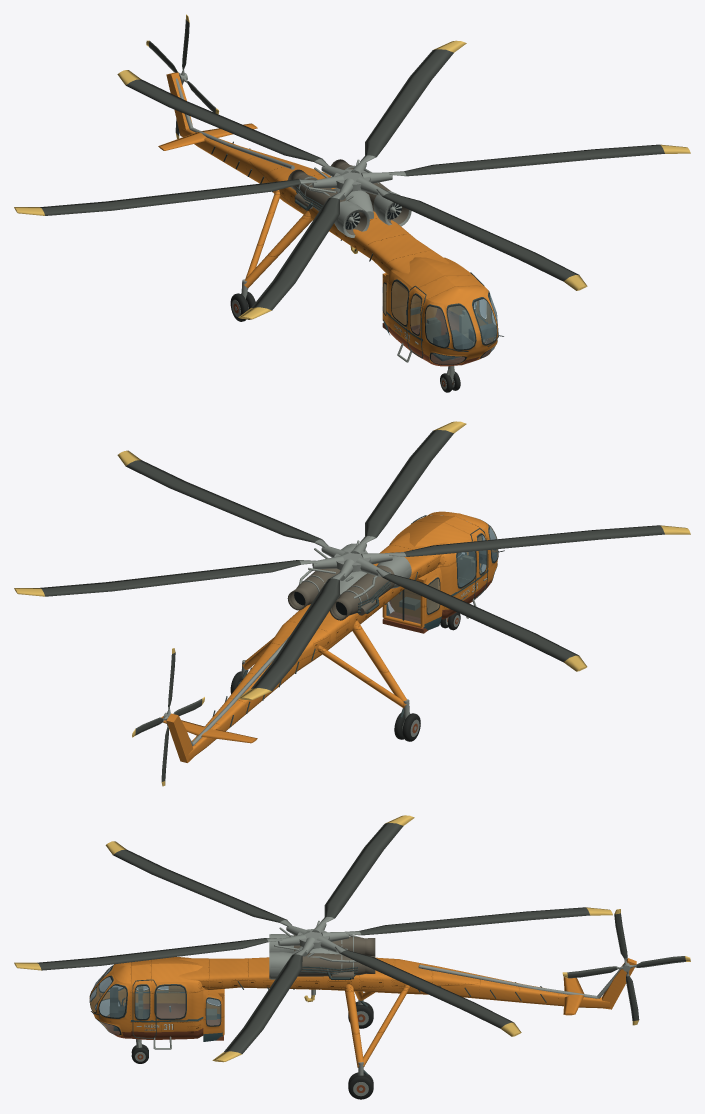
File: GIRIN.glb
3 views of the same model, one above another, from view 1: azimuth 30°, elevation 25°; view 2: azimuth 150°, elevation 25°; view 3: azimuth 270°, elevation 25° (orthographic). The views are drawn at different scales.
Parts seen in each view (by area): view 1: Airframe, MainRotor, TailRotor; view 2: Airframe, MainRotor, TailRotor; view 3: Airframe, MainRotor, TailRotor.
Boxes of the visible parts, x1,y1,x2,y2 form: Airframe: (158, 72, 503, 392); MainRotor: (14, 40, 690, 319); TailRotor: (146, 14, 219, 138); Airframe: (161, 511, 504, 762); MainRotor: (14, 421, 690, 700); TailRotor: (132, 648, 204, 786); Airframe: (89, 934, 636, 1099); MainRotor: (14, 815, 612, 1062); TailRotor: (562, 909, 690, 1025).
Size of the model in its own units: 21.01 by 6.21 by 24.43.
Materials: 15 (4 with a texture image).
